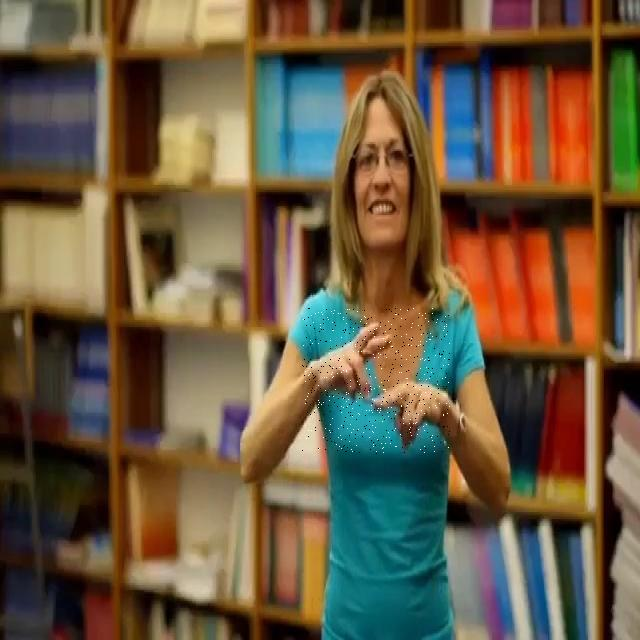salt: (302, 308, 450, 454)
